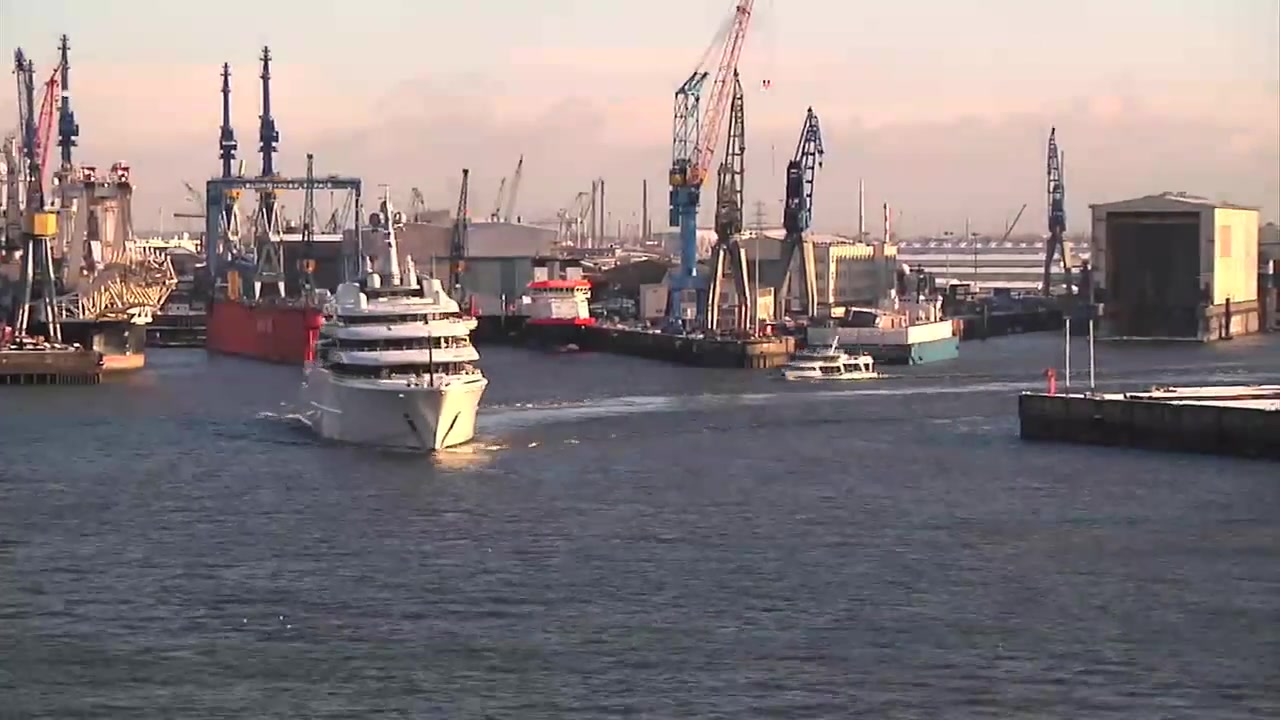boat: (307, 183, 490, 458)
